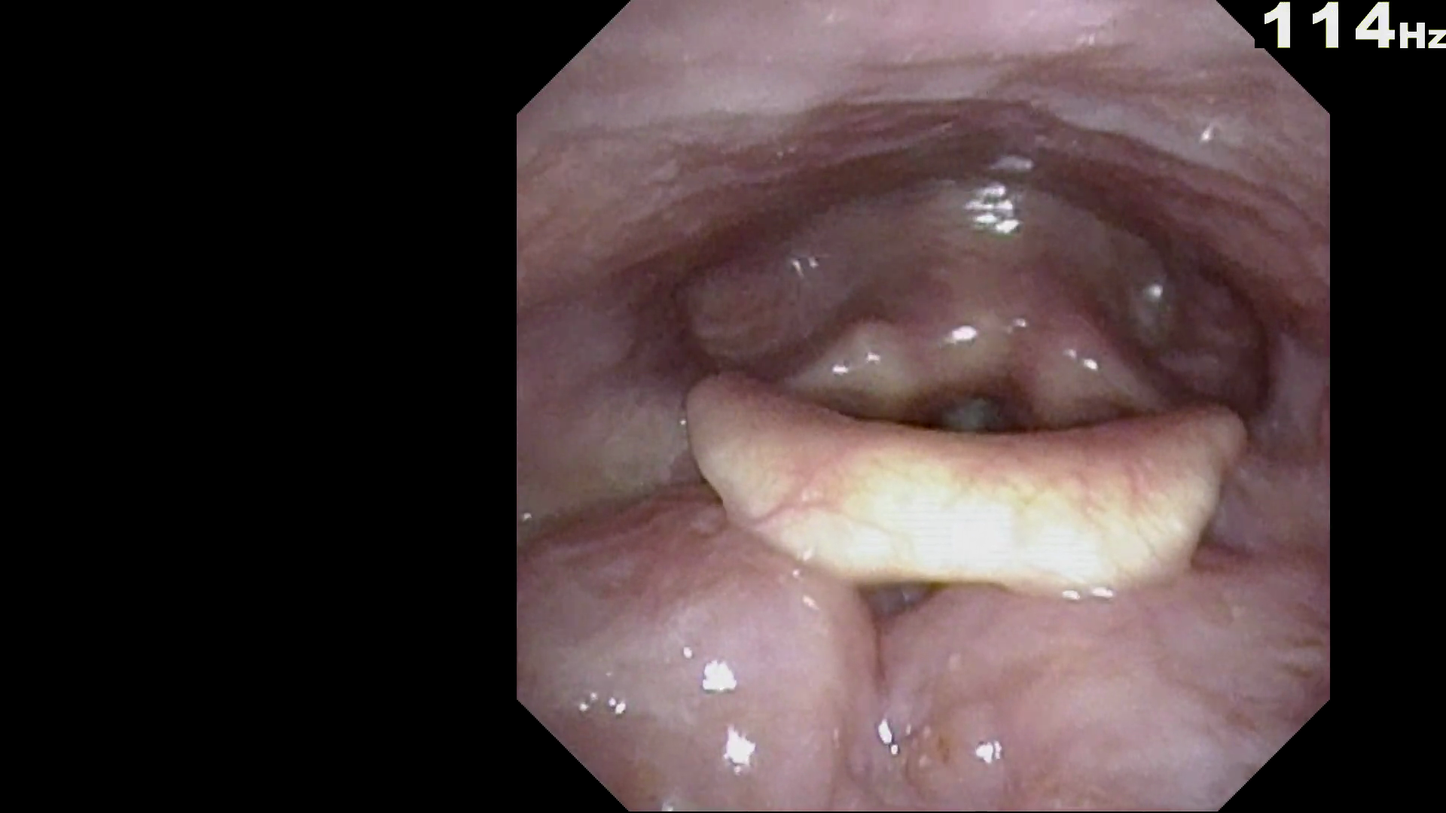epiglottis: (674, 348, 1276, 610)
trachea: (903, 327, 1049, 481)
